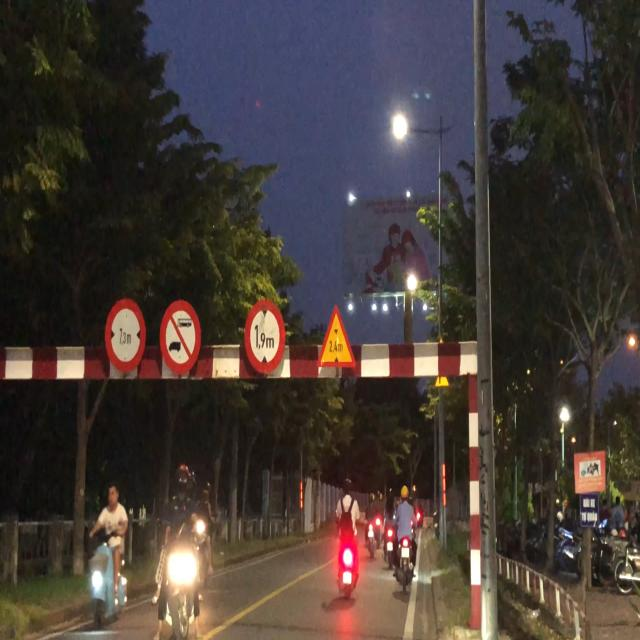Bien bao cam xe oto khach va xe oto tai: (158, 296, 202, 378)
Bien bao chieu cao tinh khong thuc te: (315, 300, 358, 373)
Bien bao han che chieu cao: (242, 297, 290, 381)
